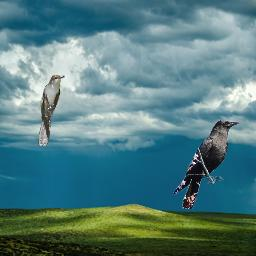Crow: (173, 119, 239, 209)
Cuckoo: (38, 74, 65, 146)
